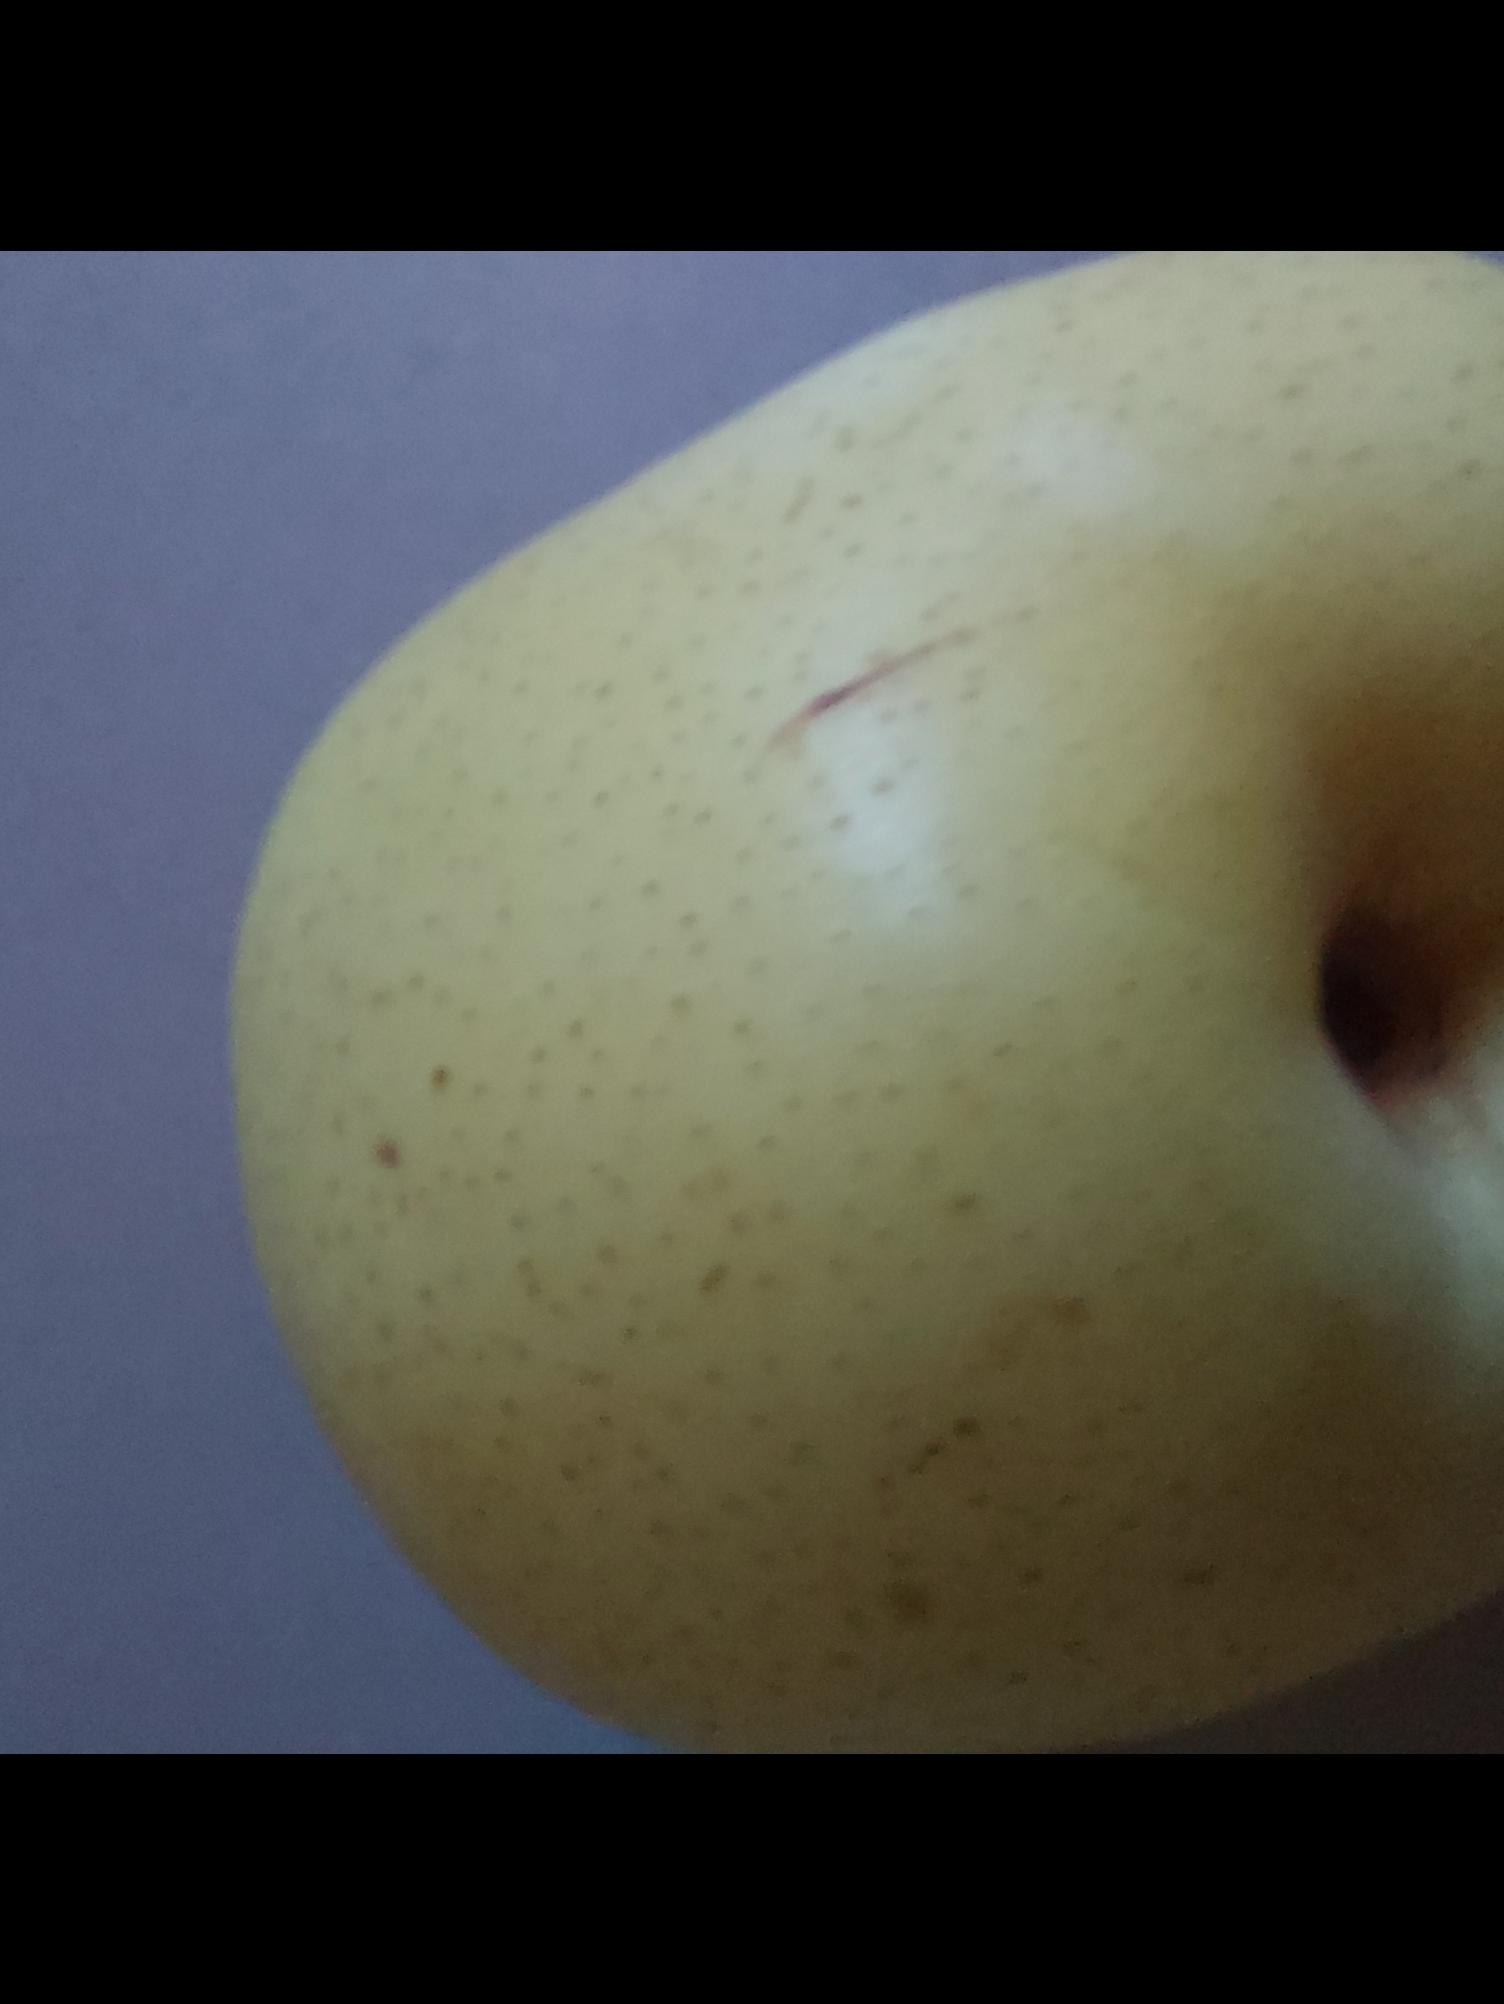Good Pear: (226, 250, 1504, 1754)
